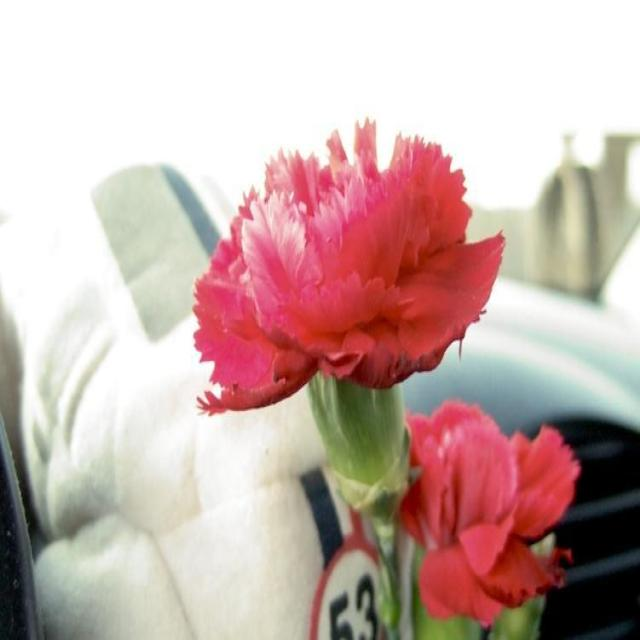carnation: (191, 106, 497, 397), (400, 399, 586, 622)
